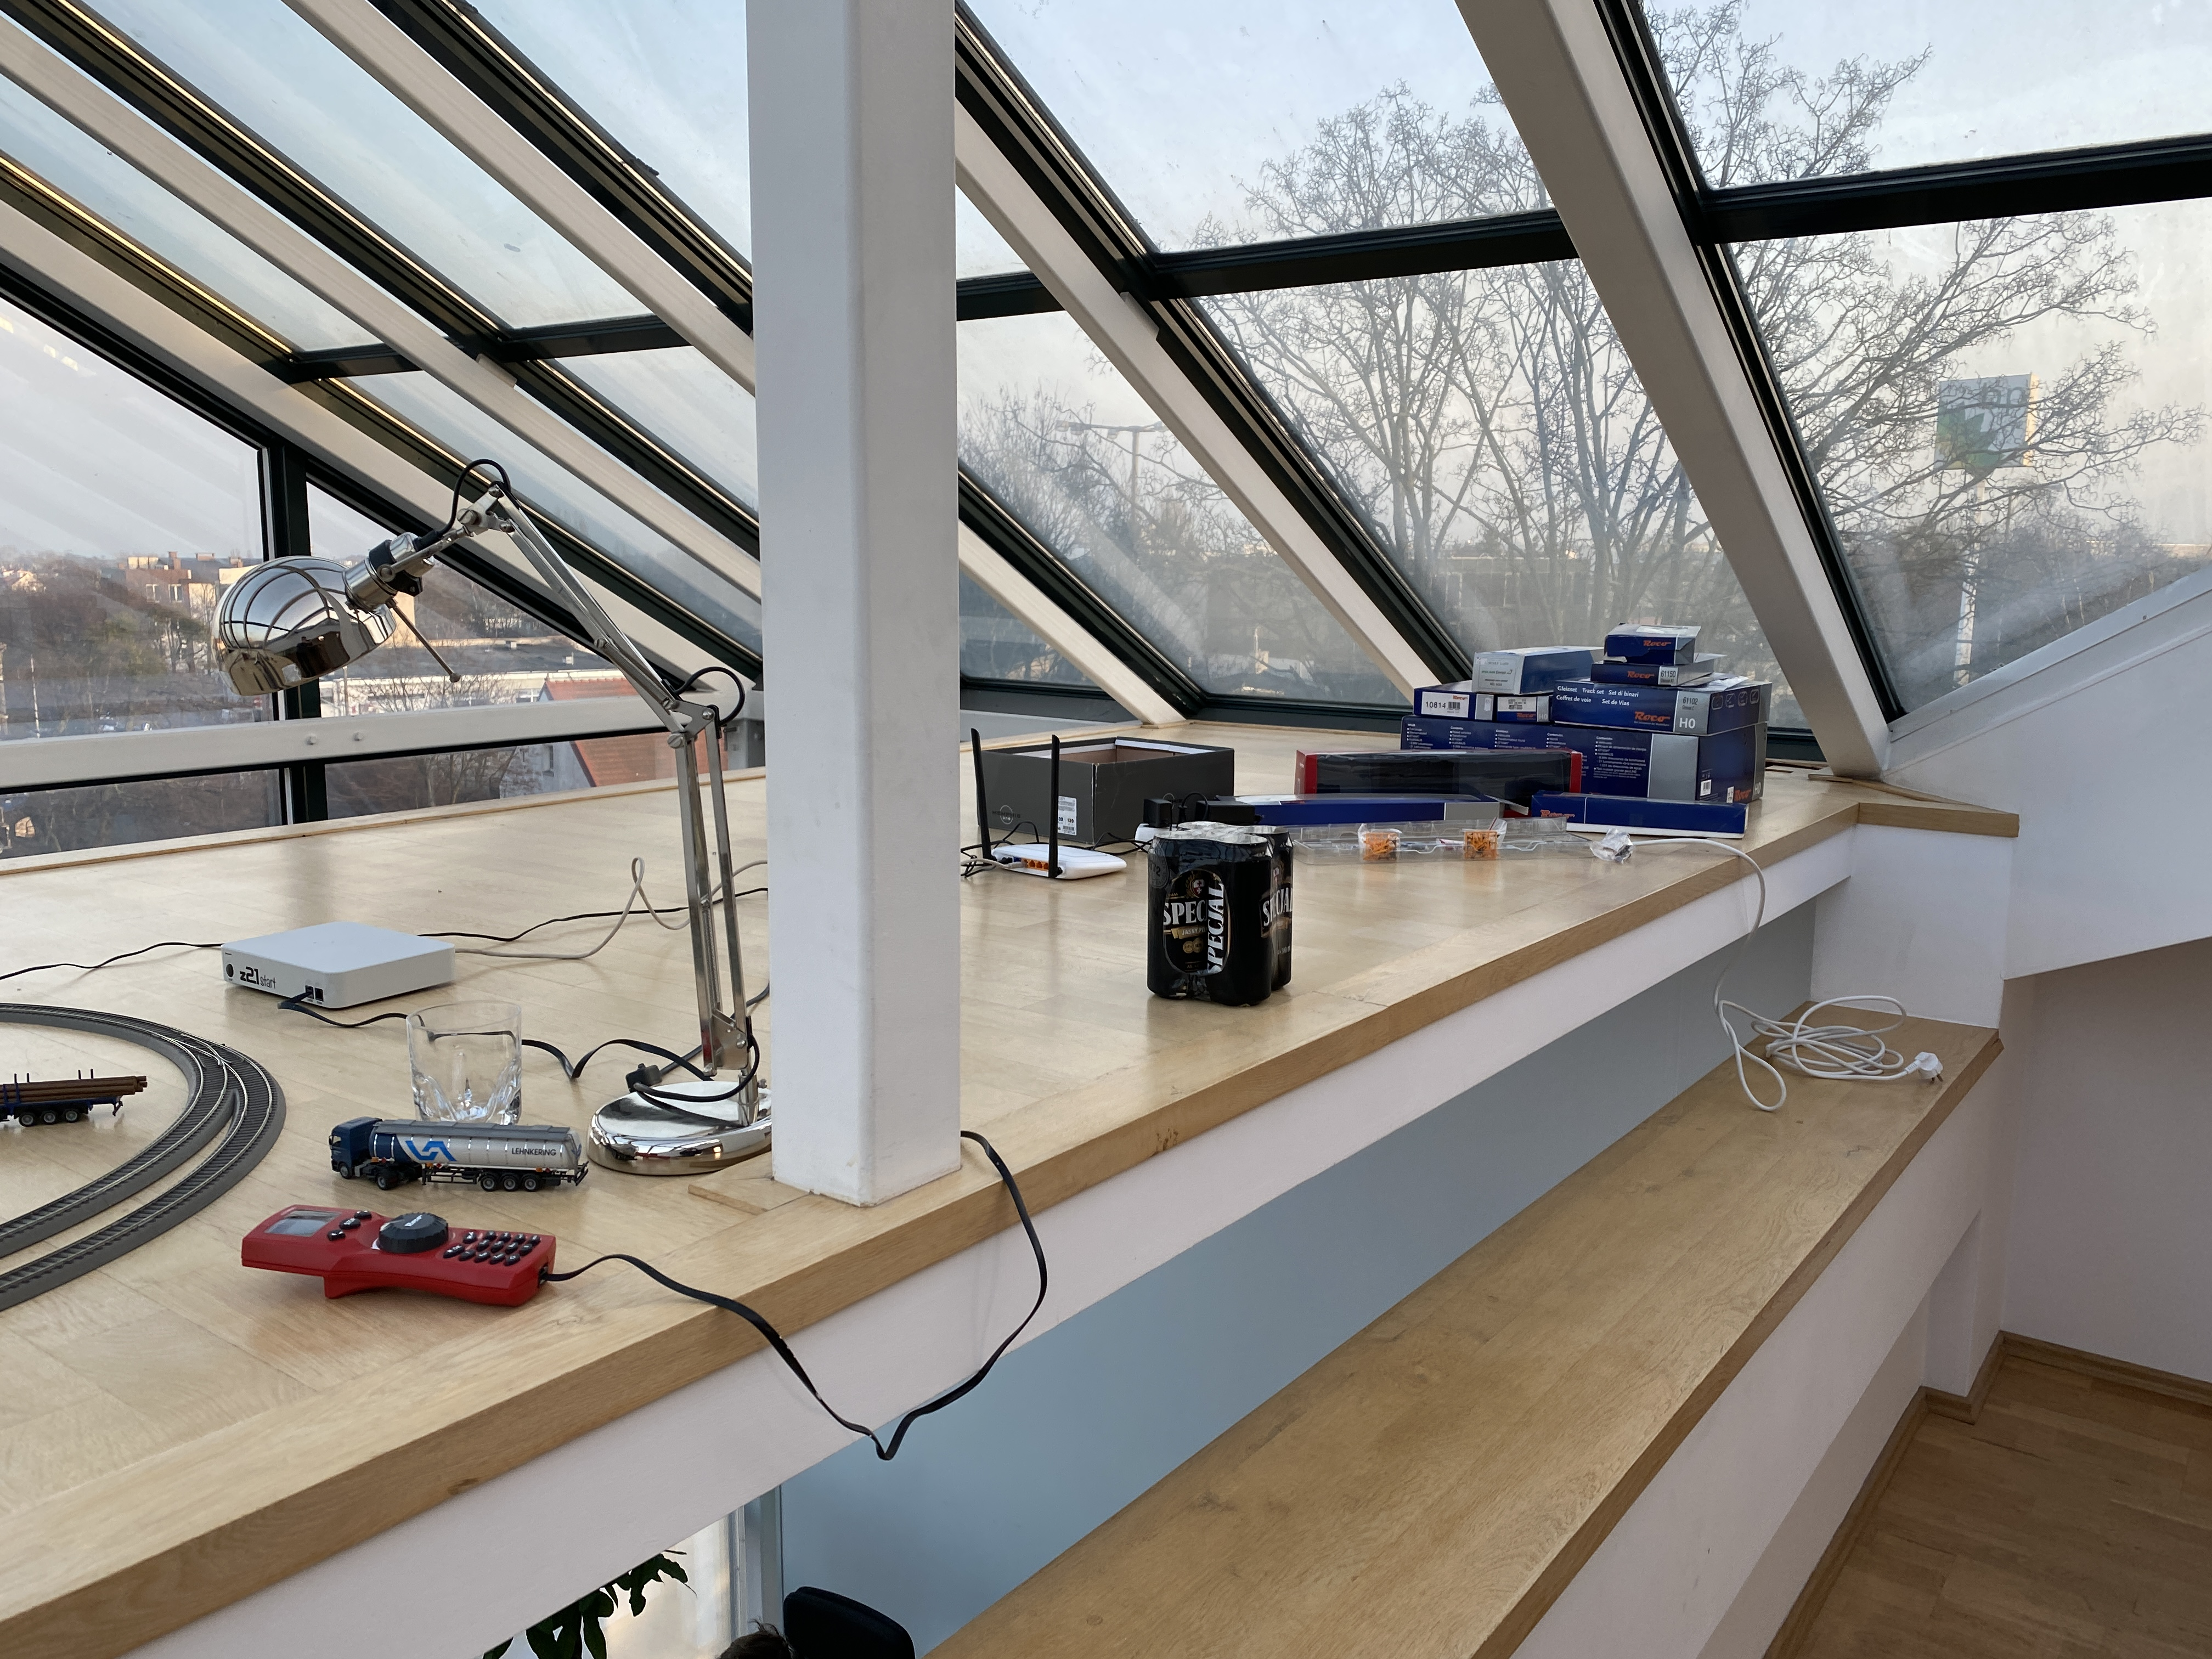specjal: (1151, 824, 1294, 1012)
